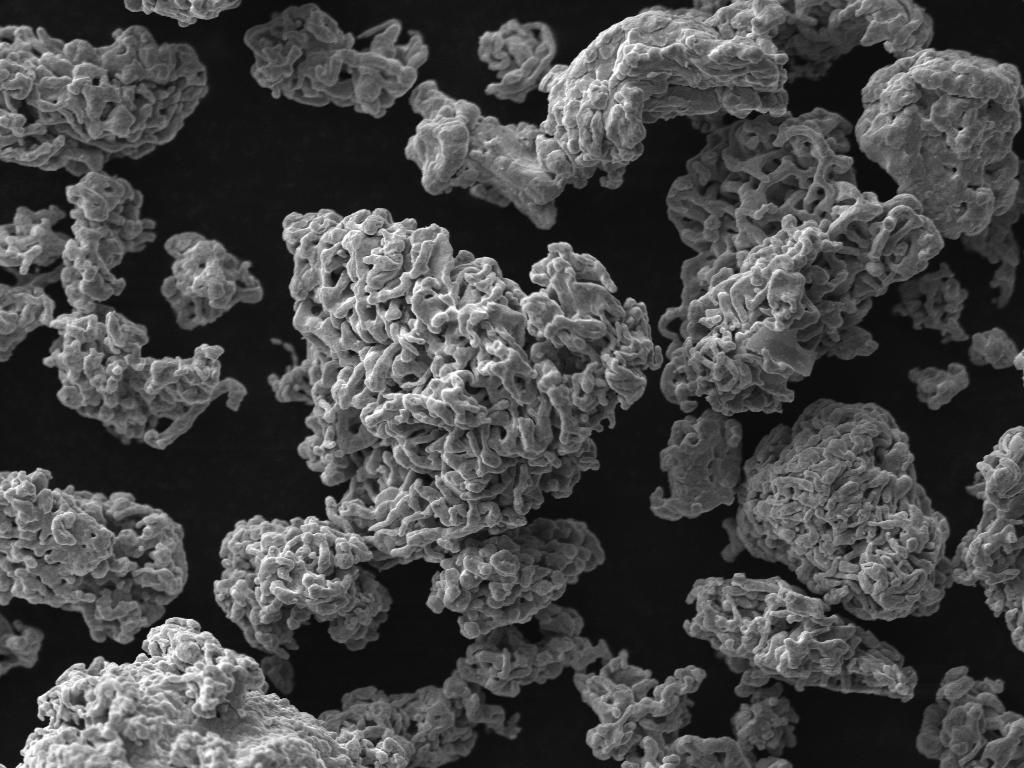Powder: (214, 208, 660, 671), (406, 0, 932, 228), (22, 606, 610, 766), (660, 110, 944, 415), (0, 172, 244, 448), (722, 400, 950, 620), (856, 48, 1024, 305), (0, 468, 188, 644), (0, 26, 208, 176), (684, 574, 918, 701), (574, 652, 798, 768), (244, 4, 428, 117), (952, 426, 1024, 651), (916, 666, 1024, 768), (650, 410, 742, 519), (160, 232, 262, 330), (892, 262, 968, 343), (124, 1, 240, 27), (908, 362, 970, 410), (1, 614, 44, 675), (968, 328, 1024, 371)
